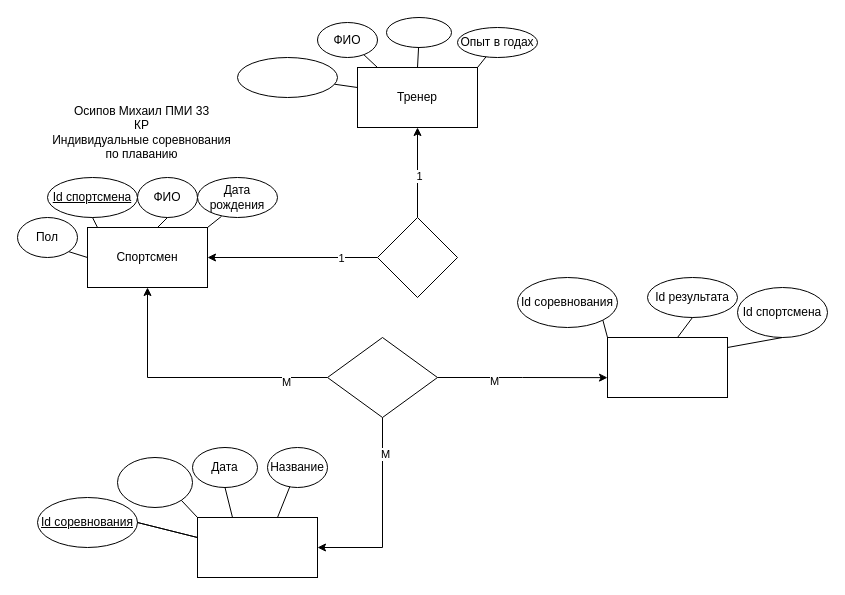
Image size: 845x595. Some labels were removed from this diagram. Here are the shapes that lost their labels. From the top down, the box of each, then its label:
(386, 16, 452, 48): Id тренера
(236, 56, 338, 98): Специализация
(376, 216, 458, 298): Тренирует
(326, 336, 438, 418): Подсчёт результатов
(606, 336, 728, 398): Результат
(116, 456, 192, 508): Место проведения
(196, 516, 318, 578): Соревнование
